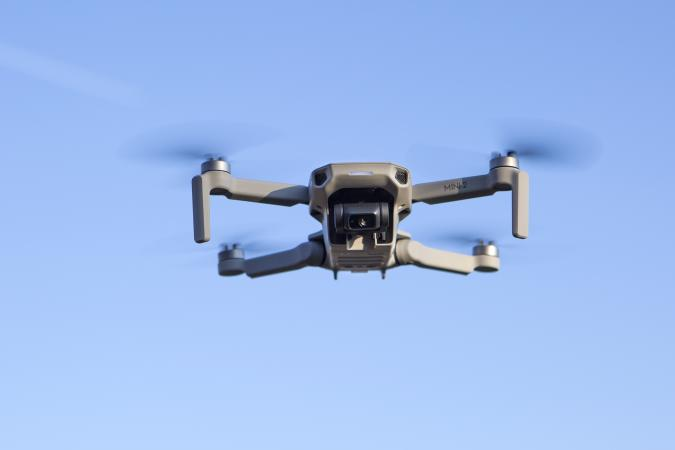drone: (180, 132, 535, 282)
